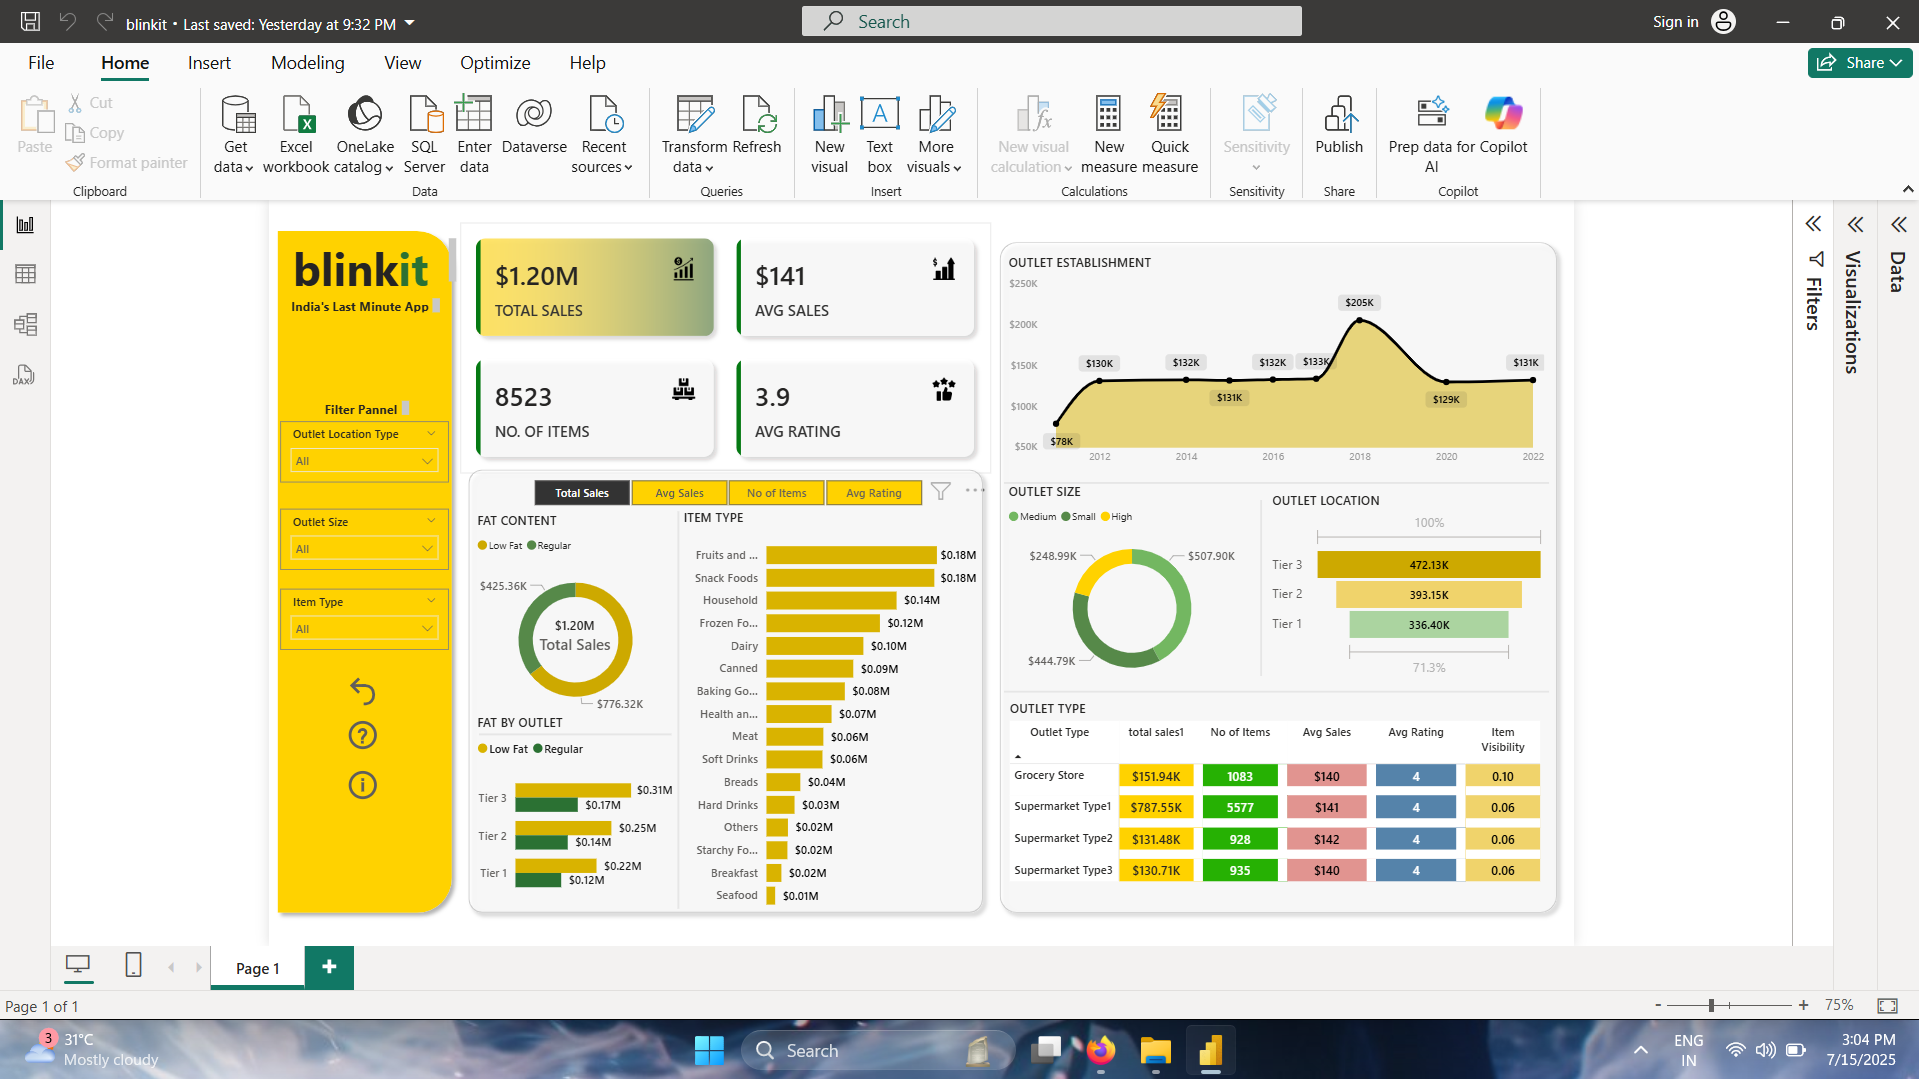

The page's visual inventory and layout, read from the dashboard file:
{"tool":"powerbi","page":{"name":"Page 1","canvas":[1400,800],"ordinal":0},"visuals":[{"type":"shape","box":[0,24.1,205.1,749.3],"z":0},{"type":"textbox","box":[0,35.7,205.7,64.3],"z":1000},{"type":"textbox","box":[16.7,100,172.2,25],"z":2000},{"type":"cardVisual","fields":{"Data":["BlinkIT Grocery Data.Total Sales","BlinkIT Grocery Data.Avg Sales","BlinkIT Grocery Data.No of Items","BlinkIT Grocery Data.Avg Rating"]},"box":[205.6,23.6,569.4,269.4],"z":3000},{"type":"shape","box":[205.6,280.6,569.4,493.1],"z":4000},{"type":"donutChart","title":"FAT CONTENT","fields":{"Y":["BlinkIT Grocery Data.Total Sales"],"Category":["BlinkIT Grocery Data.Item Fat Content"]},"box":[218.1,333.3,220.8,230.6],"z":5000},{"type":"slicer","fields":{"Values":["Metrics.Metrics"]},"box":[258.3,293.1,465.3,40.3],"z":6000},{"type":"cardVisual","fields":{"Data":["BlinkIT Grocery Data.Total Sales"]},"box":[268.1,430.6,120.8,70.8],"z":7000},{"type":"clusteredBarChart","title":"FAT BY OUTLET","fields":{"Y":["Metrics.total sales1"],"Category":["BlinkIT Grocery Data.Outlet Location Type"],"Series":["BlinkIT Grocery Data.Item Fat Content"]},"box":[218.5,550.9,219.8,209.1],"z":8000},{"type":"shape","box":[225.2,564.3,206.4,17.4],"z":9000},{"type":"shape","box":[433,333.8,12.1,426.3],"z":10000},{"type":"barChart","title":"ITEM TYPE","fields":{"Category":["BlinkIT Grocery Data.Item Type"],"Y":["Metrics.total sales1"]},"box":[439.7,331.1,324.4,439.7],"z":11000},{"type":"shape","box":[774.8,36.2,615.3,737.3],"z":12000},{"type":"lineChart","title":"OUTLET ESTABLISHMENT","fields":{"Y":["Metrics.total sales1"],"Category":["BlinkIT Grocery Data.Outlet Establishment Year"]},"box":[788.7,57.7,584.5,235.2],"z":13000},{"type":"shape","box":[788.7,293,584.5,19.7],"z":14000},{"type":"donutChart","title":"OUTLET SIZE","fields":{"Y":["Metrics.total sales1"],"Category":["BlinkIT Grocery Data.Outlet Size"]},"box":[788.7,302.8,275,225],"z":15000},{"type":"shape","box":[1057.7,321.1,12.7,188.7],"z":16000},{"type":"funnel","title":"OUTLET LOCATION","fields":{"Y":["Sum(BlinkIT Grocery Data.Sales)"],"Category":["BlinkIT Grocery Data.Outlet Location Type"]},"box":[1070.4,312.7,302.8,204.2],"z":17000},{"type":"shape","box":[788.7,516.9,584.5,19.7],"z":18000},{"type":"pivotTable","title":"OUTLET TYPE","fields":{"Values":["Metrics.total sales1","BlinkIT Grocery Data.No of Items","BlinkIT Grocery Data.Avg Sales","BlinkIT Grocery Data.Avg Rating","Avg(BlinkIT Grocery Data.Item Visibility)"],"Rows":["BlinkIT Grocery Data.Outlet Type"]},"box":[788.9,536.1,584.7,223.6],"z":19000},{"type":"slicer","fields":{"Values":["BlinkIT Grocery Data.Outlet Location Type"]},"box":[12.5,237.5,180.6,65.3],"z":20000},{"type":"slicer","fields":{"Values":["BlinkIT Grocery Data.Outlet Size"]},"box":[12.5,330.6,180.6,65.3],"z":21000},{"type":"slicer","fields":{"Values":["BlinkIT Grocery Data.Item Type"]},"box":[12.5,416.7,180.6,65.3],"z":22000},{"type":"textbox","box":[50,211.1,105.6,26.4],"z":23000},{"type":"actionButton","box":[80.6,506.9,45.8,40.3],"z":24000},{"type":"actionButton","box":[80.6,606.9,45.8,40.3],"z":25000},{"type":"actionButton","box":[80.6,554.2,47.2,40.3],"z":26000}]}

Visuals, with their boxes on the page's 1400x800 design canvas (x1, y1, x2, y2). These are canvas units, not pixel positions in the 1919x1079 screenshot, which may show the page scaled, cropped or inside an application window:
shape: crop(0, 24, 205, 773)
textbox: crop(0, 36, 206, 100)
textbox: crop(17, 100, 189, 125)
cardVisual - BlinkIT Grocery Data.Total Sales x BlinkIT Grocery Data.Avg Sales: crop(206, 24, 775, 293)
shape: crop(206, 281, 775, 774)
"FAT CONTENT" donutChart: crop(218, 333, 439, 564)
slicer - Metrics.Metrics: crop(258, 293, 724, 333)
cardVisual - BlinkIT Grocery Data.Total Sales: crop(268, 431, 389, 501)
"FAT BY OUTLET" clusteredBarChart: crop(218, 551, 438, 760)
shape: crop(225, 564, 432, 582)
shape: crop(433, 334, 445, 760)
"ITEM TYPE" barChart: crop(440, 331, 764, 771)
shape: crop(775, 36, 1390, 774)
"OUTLET ESTABLISHMENT" lineChart: crop(789, 58, 1373, 293)
shape: crop(789, 293, 1373, 313)
"OUTLET SIZE" donutChart: crop(789, 303, 1064, 528)
shape: crop(1058, 321, 1070, 510)
"OUTLET LOCATION" funnel: crop(1070, 313, 1373, 517)
shape: crop(789, 517, 1373, 537)
"OUTLET TYPE" pivotTable: crop(789, 536, 1374, 760)
slicer - BlinkIT Grocery Data.Outlet Location Type: crop(12, 238, 193, 303)
slicer - BlinkIT Grocery Data.Outlet Size: crop(12, 331, 193, 396)
slicer - BlinkIT Grocery Data.Item Type: crop(12, 417, 193, 482)
textbox: crop(50, 211, 156, 238)
actionButton: crop(81, 507, 126, 547)
actionButton: crop(81, 607, 126, 647)
actionButton: crop(81, 554, 128, 594)
